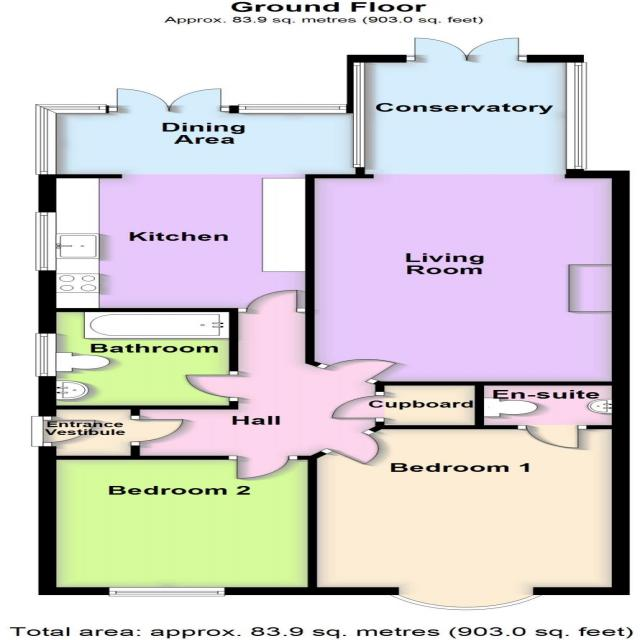DOOR: (317, 356, 402, 384), (320, 430, 383, 467), (325, 391, 385, 422), (180, 371, 238, 402), (131, 414, 186, 446), (238, 287, 305, 312), (517, 425, 586, 449), (227, 456, 297, 479)
DOUBLE DOOR: (405, 36, 529, 62), (107, 87, 230, 112)
ROOM: (34, 86, 365, 312), (305, 167, 630, 385), (307, 421, 629, 614), (38, 456, 318, 595)
WINDOW: (31, 103, 110, 175), (385, 590, 547, 611), (562, 61, 592, 171), (350, 60, 372, 170), (33, 211, 60, 273), (30, 330, 62, 378), (106, 586, 228, 598), (236, 103, 348, 116), (27, 414, 53, 448)
